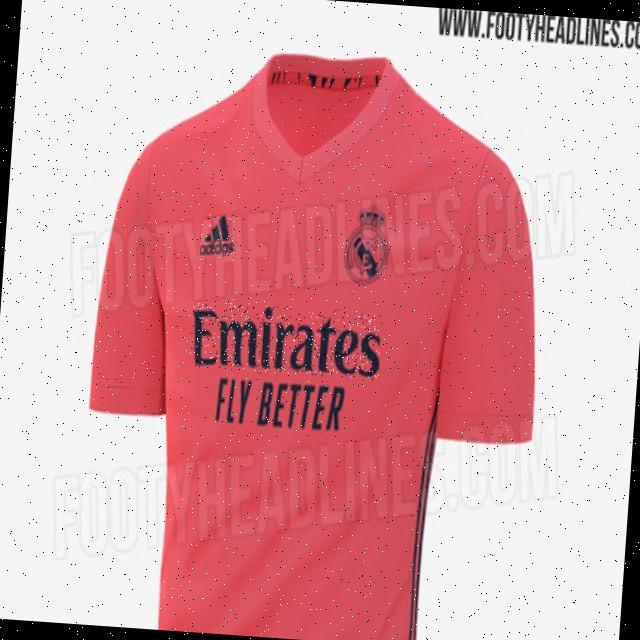Adidas: (200, 213, 237, 257)
Emirates: (188, 299, 383, 379)
